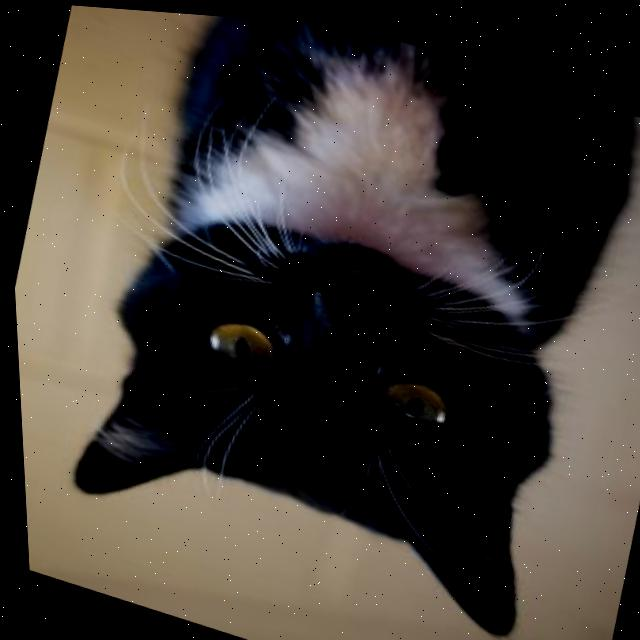Tuxedo: (34, 2, 640, 640)
